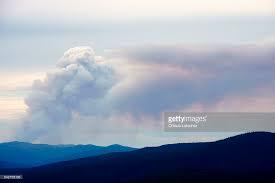yanwu: (21, 32, 275, 109)
